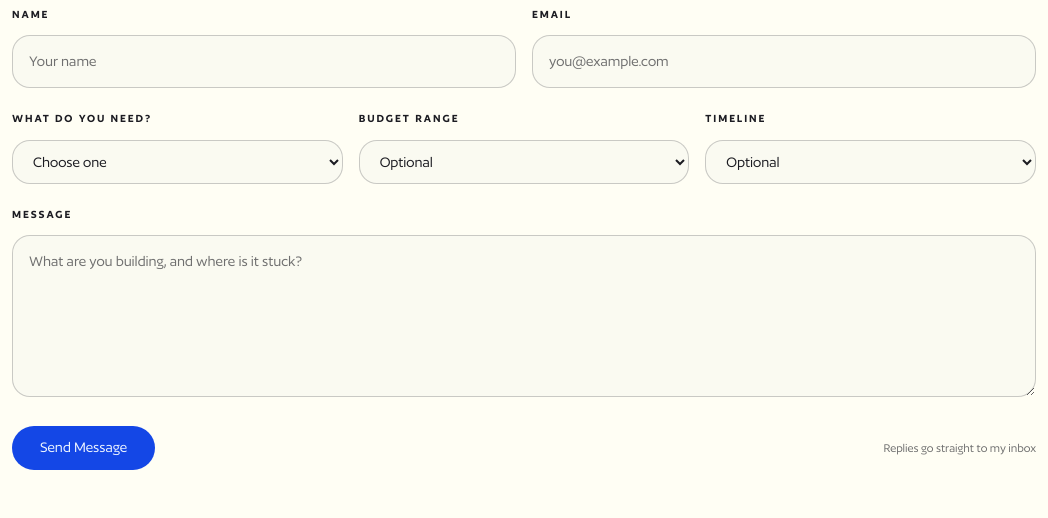
Scenario: ContactForm › posts the message to Web3Forms and shows a success message
In the field labelled "NAME": (264, 62) [12,35,516,88], type "Jane Doe"
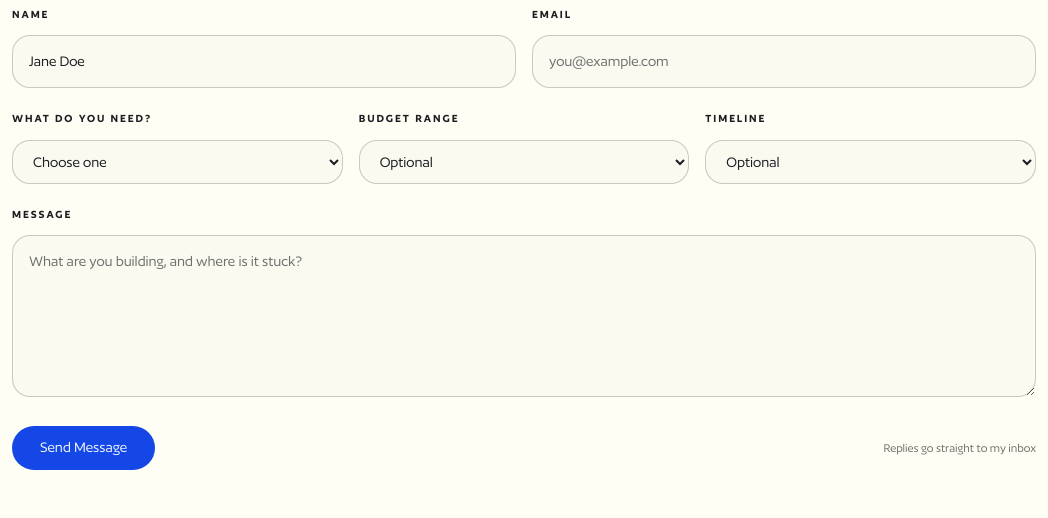
In the field labelled "EMAIL": (784, 62) [532,35,1036,88], type "jane@example.com"
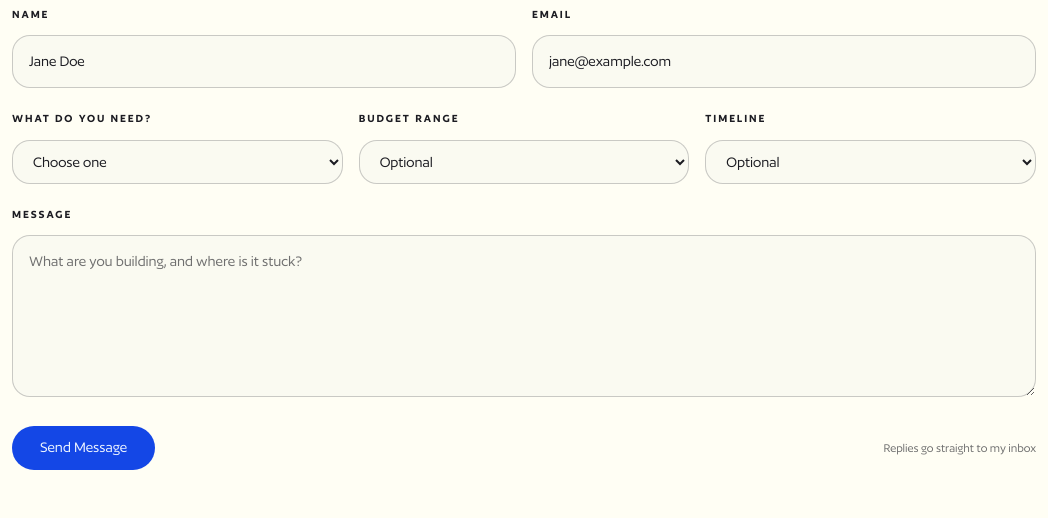
Select "New website" in the dropdown labelled "What do you need?": (177, 162) [12,140,343,184]
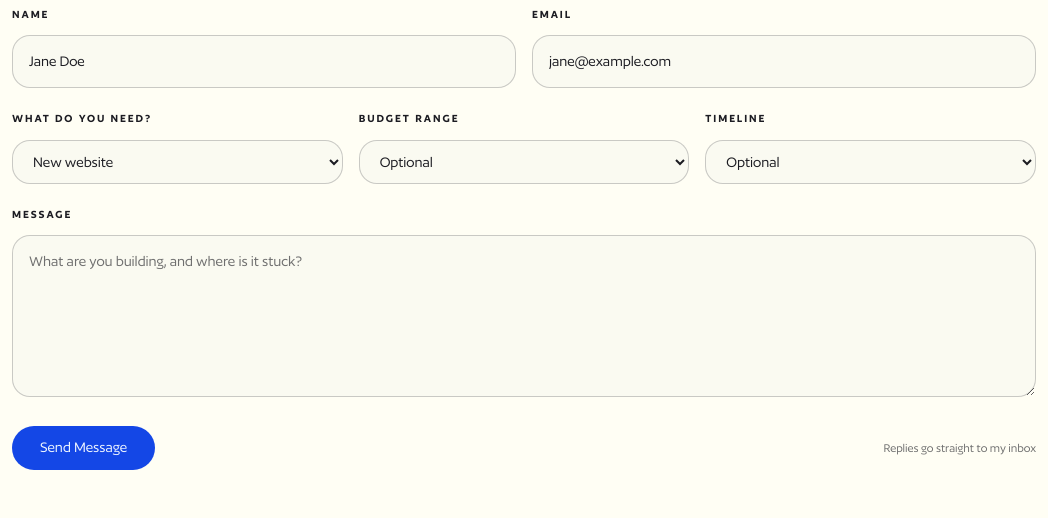
In the text box labelled "MESSAGE": (524, 316) [12,235,1036,397], type "Hello there!"
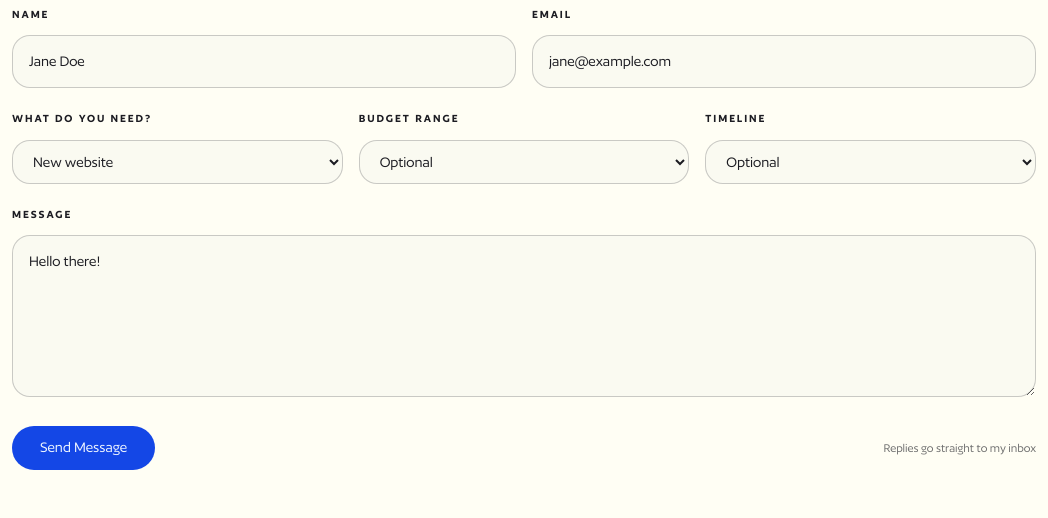
Click the button "Send Message": (84, 448) [12,426,155,470]
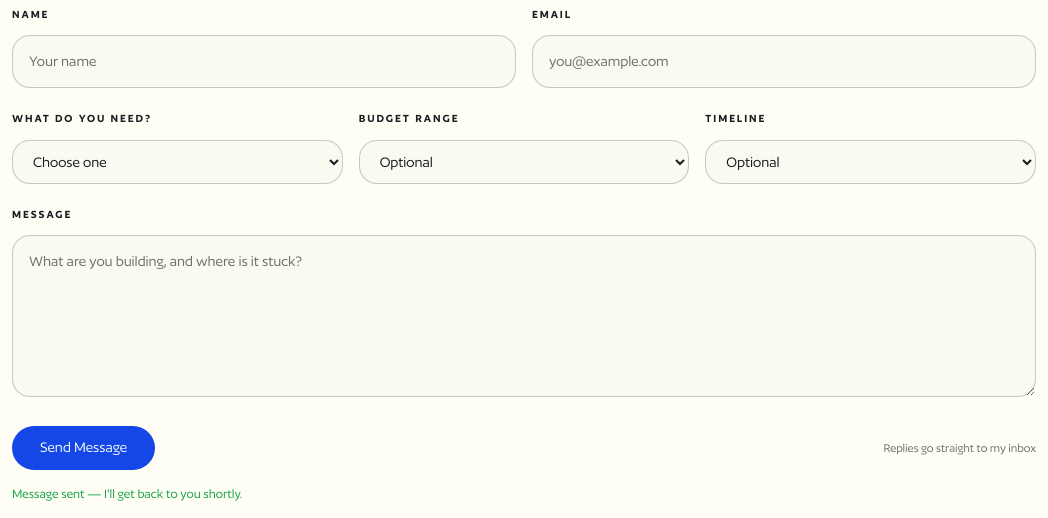
Expected: the message shows "Message sent", [12,486,242,501]
